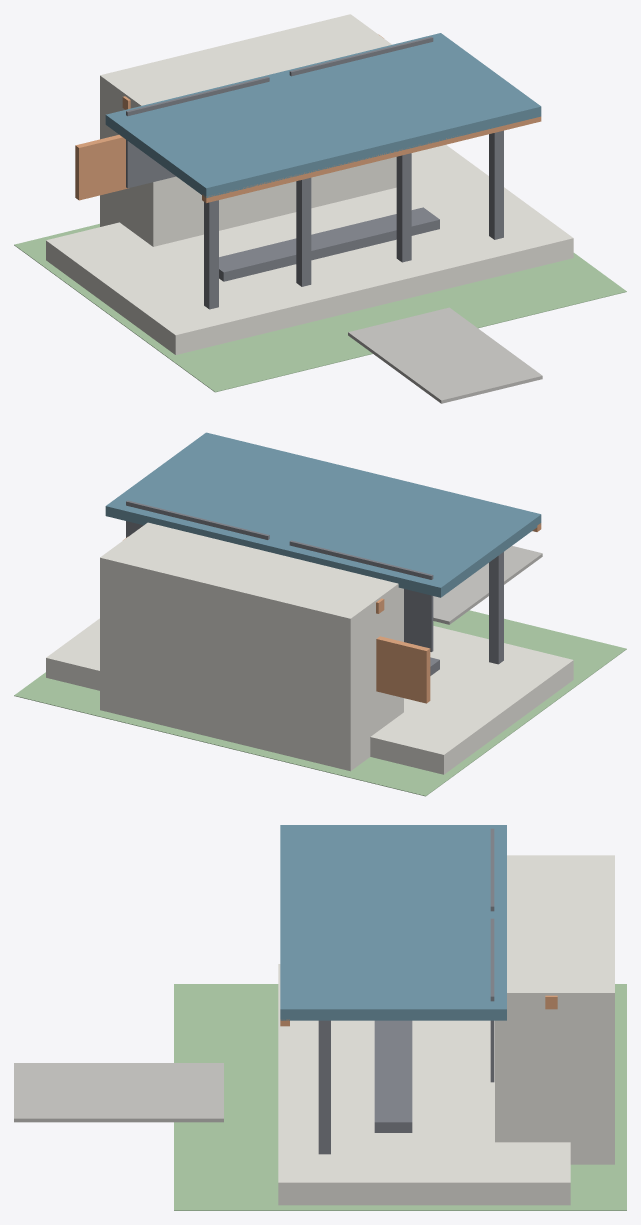
Rendered from BUILDING_CIVIC_SPORTS_PAVILION_001_LOD_MAP.glb.
3 views of the same model, one above another, from view 1: azimuth 30°, elevation 25°; view 2: azimuth 150°, elevation 25°; view 3: azimuth 270°, elevation 25° (orthographic). The views are drawn at different scales.
Visible parts, largest first — view 1: MOD_FOUNDATION_STANDARD_RECT_001.002, BUILDING_CIVIC_SPORTS_PAVILION_001_CANOPY_ROOF_MAP, BUILDING_CIVIC_SPORTS_PAVILION_001_SERVICE_BLOCK_MAP, MOD_GROUND_GRASS_STANDARD_001_MAP_PATCH, MOD_PATH_STANDARD_001_MAP_SURFACE, BUILDING_CIVIC_SPORTS_PAVILION_001_BENCH_MAP_0, BUILDING_CIVIC_SPORTS_PAVILION_001_SIGN_MAP, MOD_WINDOW_RESIDENTIAL_LARGE_001_COASTAL_PANORAMIC_WINDOW_MA, BUILDING_CIVIC_SPORTS_PAVILION_001_ROOF_EDGE_MAP, BUILDING_CIVIC_SPORTS_PAVILION_001_POST_MAP_1, BUILDING_CIVIC_SPORTS_PAVILION_001_POST_MAP_2, BUILDING_CIVIC_SPORTS_PAVILION_001_POST_MAP_0 (+2 smaller); view 2: BUILDING_CIVIC_SPORTS_PAVILION_001_SERVICE_BLOCK_MAP, BUILDING_CIVIC_SPORTS_PAVILION_001_CANOPY_ROOF_MAP, MOD_FOUNDATION_STANDARD_RECT_001.002, MOD_GROUND_GRASS_STANDARD_001_MAP_PATCH, BUILDING_CIVIC_SPORTS_PAVILION_001_SIGN_MAP, MOD_PATH_STANDARD_001_MAP_SURFACE, MOD_WINDOW_RESIDENTIAL_LARGE_001_COASTAL_PANORAMIC_WINDOW_MA, BUILDING_CIVIC_SPORTS_PAVILION_001_POST_MAP_0, MOD_WINDOW_RESIDENTIAL_LARGE_001_COASTAL_PANORAMIC_WINDOW_M.; view 3: BUILDING_CIVIC_SPORTS_PAVILION_001_CANOPY_ROOF_MAP, MOD_FOUNDATION_STANDARD_RECT_001.002, BUILDING_CIVIC_SPORTS_PAVILION_001_SERVICE_BLOCK_MAP, MOD_GROUND_GRASS_STANDARD_001_MAP_PATCH, MOD_PATH_STANDARD_001_MAP_SURFACE, BUILDING_CIVIC_SPORTS_PAVILION_001_BENCH_MAP_0, BUILDING_CIVIC_SPORTS_PAVILION_001_POST_MAP_3, MOD_WINDOW_RESIDENTIAL_LARGE_001_COASTAL_PANORAMIC_WINDOW_M..
Part boxes in pixels (x1=…): MOD_FOUNDATION_STANDARD_RECT_001.002: x1=46, y1=145, x2=573, y2=354; BUILDING_CIVIC_SPORTS_PAVILION_001_CANOPY_ROOF_MAP: x1=105, y1=33, x2=541, y2=198; BUILDING_CIVIC_SPORTS_PAVILION_001_SERVICE_BLOCK_MAP: x1=100, y1=14, x2=396, y2=246; MOD_GROUND_GRASS_STANDARD_001_MAP_PATCH: x1=14, y1=223, x2=626, y2=392; MOD_PATH_STANDARD_001_MAP_SURFACE: x1=348, y1=307, x2=542, y2=403; BUILDING_CIVIC_SPORTS_PAVILION_001_BENCH_MAP_0: x1=219, y1=207, x2=439, y2=281; BUILDING_CIVIC_SPORTS_PAVILION_001_SIGN_MAP: x1=75, y1=134, x2=128, y2=200; MOD_WINDOW_RESIDENTIAL_LARGE_001_COASTAL_PANORAMIC_WINDOW_MA: x1=126, y1=76, x2=269, y2=188; BUILDING_CIVIC_SPORTS_PAVILION_001_ROOF_EDGE_MAP: x1=202, y1=116, x2=541, y2=203; BUILDING_CIVIC_SPORTS_PAVILION_001_POST_MAP_1: x1=296, y1=177, x2=311, y2=286; BUILDING_CIVIC_SPORTS_PAVILION_001_POST_MAP_2: x1=396, y1=153, x2=411, y2=262; BUILDING_CIVIC_SPORTS_PAVILION_001_POST_MAP_0: x1=204, y1=200, x2=218, y2=309; BUILDING_CIVIC_SPORTS_PAVILION_001_SERVICE_BLOCK_MAP: x1=100, y1=522, x2=403, y2=771; BUILDING_CIVIC_SPORTS_PAVILION_001_CANOPY_ROOF_MAP: x1=105, y1=432, x2=541, y2=597; MOD_FOUNDATION_STANDARD_RECT_001.002: x1=46, y1=618, x2=573, y2=774; MOD_GROUND_GRASS_STANDARD_001_MAP_PATCH: x1=14, y1=610, x2=626, y2=796; BUILDING_CIVIC_SPORTS_PAVILION_001_SIGN_MAP: x1=376, y1=636, x2=430, y2=703; MOD_PATH_STANDARD_001_MAP_SURFACE: x1=433, y1=546, x2=542, y2=624; MOD_WINDOW_RESIDENTIAL_LARGE_001_COASTAL_PANORAMIC_WINDOW_MA: x1=289, y1=540, x2=433, y2=651; BUILDING_CIVIC_SPORTS_PAVILION_001_POST_MAP_0: x1=489, y1=552, x2=503, y2=664; MOD_WINDOW_RESIDENTIAL_LARGE_001_COASTAL_PANORAMIC_WINDOW_M.: x1=126, y1=500, x2=269, y2=539; BUILDING_CIVIC_SPORTS_PAVILION_001_CANOPY_ROOF_MAP: x1=280, y1=825, x2=506, y2=1020; MOD_FOUNDATION_STANDARD_RECT_001.002: x1=278, y1=964, x2=570, y2=1205; BUILDING_CIVIC_SPORTS_PAVILION_001_SERVICE_BLOCK_MAP: x1=495, y1=855, x2=614, y2=1164; MOD_GROUND_GRASS_STANDARD_001_MAP_PATCH: x1=174, y1=984, x2=626, y2=1210; MOD_PATH_STANDARD_001_MAP_SURFACE: x1=14, y1=1063, x2=223, y2=1122; BUILDING_CIVIC_SPORTS_PAVILION_001_BENCH_MAP_0: x1=374, y1=1020, x2=412, y2=1132; BUILDING_CIVIC_SPORTS_PAVILION_001_POST_MAP_3: x1=318, y1=1020, x2=330, y2=1154; MOD_WINDOW_RESIDENTIAL_LARGE_001_COASTAL_PANORAMIC_WINDOW_M.: x1=490, y1=918, x2=494, y2=1082.
Bounding box in the file's own units: 7.8 × 2.97 × 8.93.
